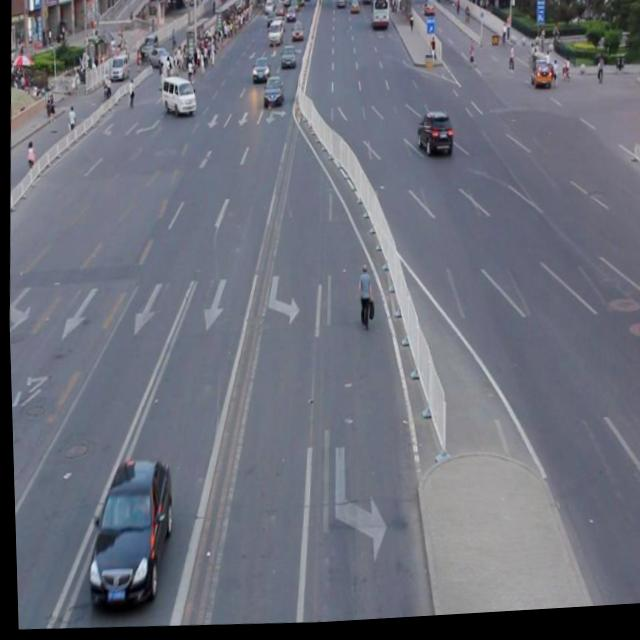car: (79, 454, 173, 612), (413, 113, 452, 164)
